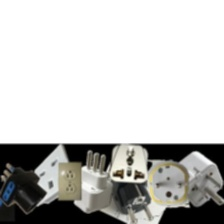three_eye_plug: (27, 141, 76, 209), (172, 148, 223, 209), (70, 149, 114, 216), (0, 160, 48, 217), (144, 157, 192, 210), (112, 171, 157, 223), (104, 144, 154, 188), (54, 159, 83, 203)
